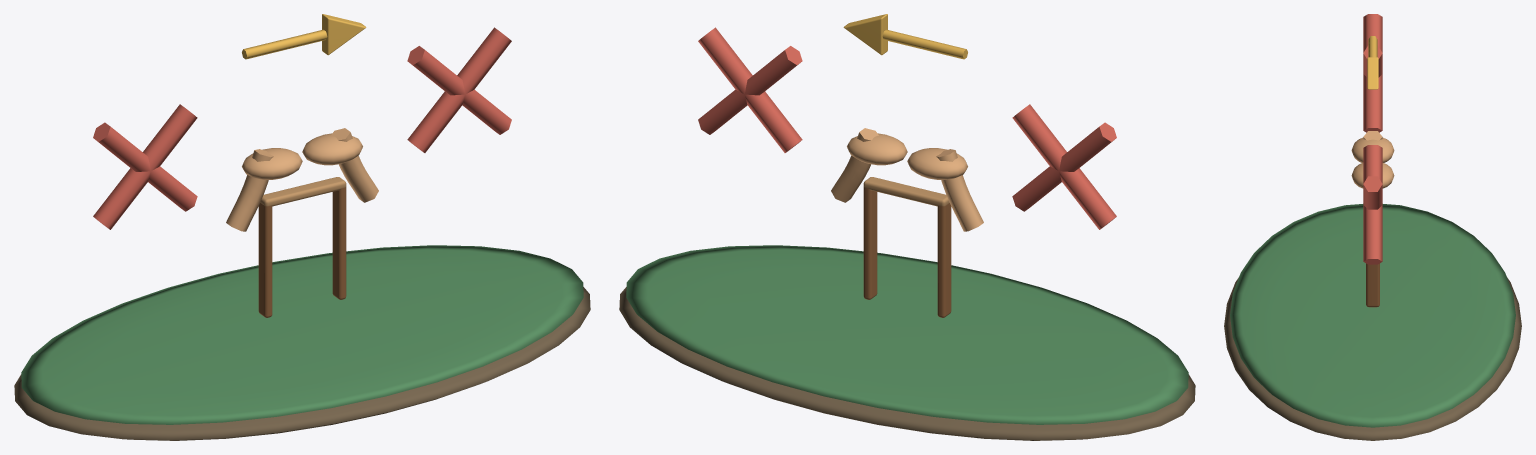
File: complete-second-no-alternative.glb
The picture shows the model from 3 angles, left to right: view 1: azimuth 30°, elevation 25°; view 2: azimuth 150°, elevation 25°; view 3: azimuth 270°, elevation 25°; orthographic projection. The views are drawn at different scales.
Visible parts, largest first — view 1: complete-second-no-alternative_surface_01, complete-second-no-alternative_surface_02, complete-second-no-alternative_surface_00, complete-second-no-alternative_surface_03, complete-second-no-alternative_surface_05, complete-second-no-alternative_surface_04, complete-second-no-alternative_surface_06; view 2: complete-second-no-alternative_surface_01, complete-second-no-alternative_surface_02, complete-second-no-alternative_surface_00, complete-second-no-alternative_surface_03, complete-second-no-alternative_surface_05, complete-second-no-alternative_surface_04, complete-second-no-alternative_surface_06; view 3: complete-second-no-alternative_surface_01, complete-second-no-alternative_surface_00, complete-second-no-alternative_surface_02, complete-second-no-alternative_surface_03, complete-second-no-alternative_surface_05, complete-second-no-alternative_surface_04.
Part boxes in pixels (bbox=[...]): complete-second-no-alternative_surface_01: bbox=[21, 245, 583, 424]; complete-second-no-alternative_surface_02: bbox=[93, 27, 511, 229]; complete-second-no-alternative_surface_00: bbox=[14, 287, 590, 440]; complete-second-no-alternative_surface_03: bbox=[226, 128, 378, 231]; complete-second-no-alternative_surface_05: bbox=[258, 186, 346, 317]; complete-second-no-alternative_surface_04: bbox=[242, 14, 366, 59]; complete-second-no-alternative_surface_06: bbox=[260, 177, 346, 206]; complete-second-no-alternative_surface_01: bbox=[626, 245, 1188, 424]; complete-second-no-alternative_surface_02: bbox=[698, 27, 1116, 229]; complete-second-no-alternative_surface_00: bbox=[619, 287, 1195, 440]; complete-second-no-alternative_surface_03: bbox=[831, 128, 983, 231]; complete-second-no-alternative_surface_05: bbox=[863, 186, 951, 317]; complete-second-no-alternative_surface_04: bbox=[843, 14, 967, 59]; complete-second-no-alternative_surface_06: bbox=[863, 177, 949, 206]; complete-second-no-alternative_surface_01: bbox=[1230, 204, 1515, 427]; complete-second-no-alternative_surface_00: bbox=[1224, 277, 1521, 440]; complete-second-no-alternative_surface_02: bbox=[1363, 14, 1382, 264]; complete-second-no-alternative_surface_03: bbox=[1351, 131, 1394, 188]; complete-second-no-alternative_surface_05: bbox=[1366, 263, 1379, 307]; complete-second-no-alternative_surface_04: bbox=[1367, 36, 1378, 89].
Size of the model in its own units: 4.56 by 2.71 by 2.5.
